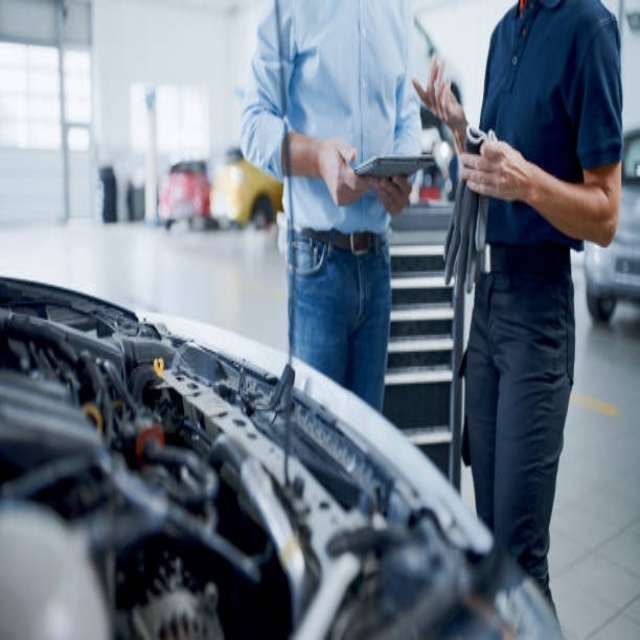Sin_guantes: (453, 135, 529, 207), (317, 135, 379, 209), (414, 59, 467, 144), (370, 167, 414, 218)
